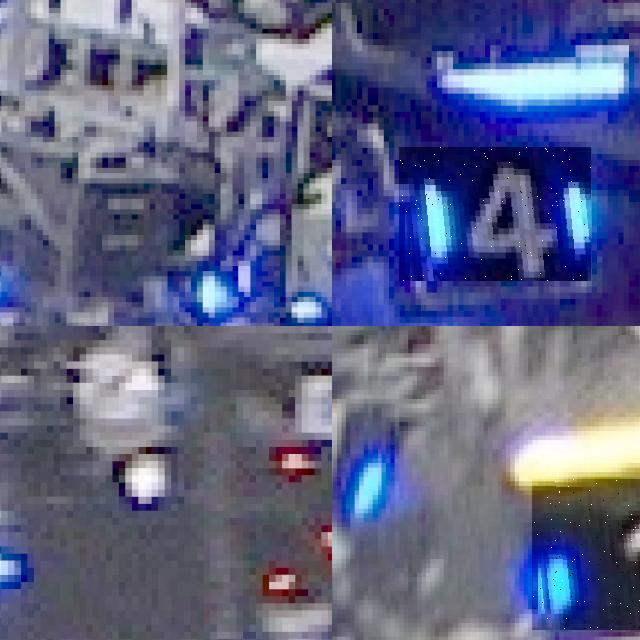B1: (532, 479, 640, 630), (332, 380, 392, 508)
B4: (399, 147, 592, 281)
